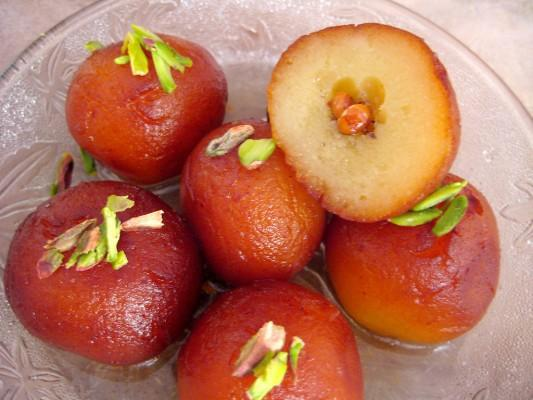GulabJamun: (269, 23, 459, 224), (5, 179, 205, 368), (328, 174, 498, 346), (65, 34, 230, 185), (184, 119, 328, 288), (178, 282, 362, 400)
